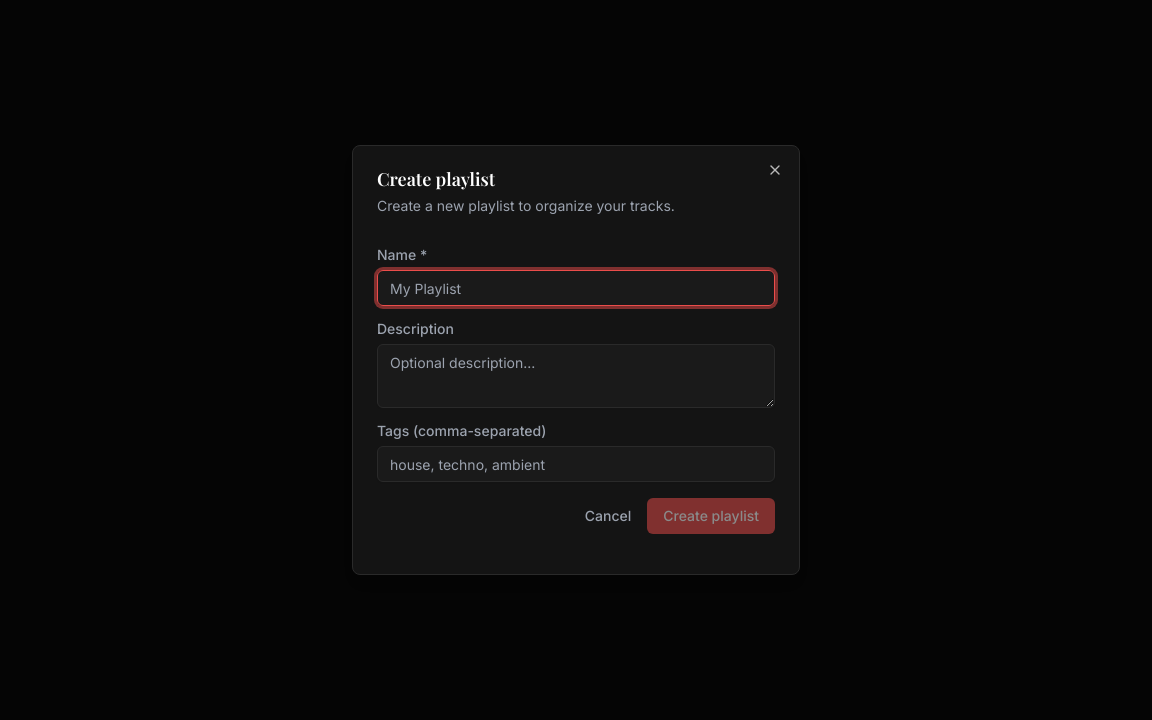
Test: CreatePlaylistDialog › shows error message on API failure
This screenshot has width=1152, height=720.
In the field labelled "Name *": (576, 288) [377, 270, 775, 306], type "Test"
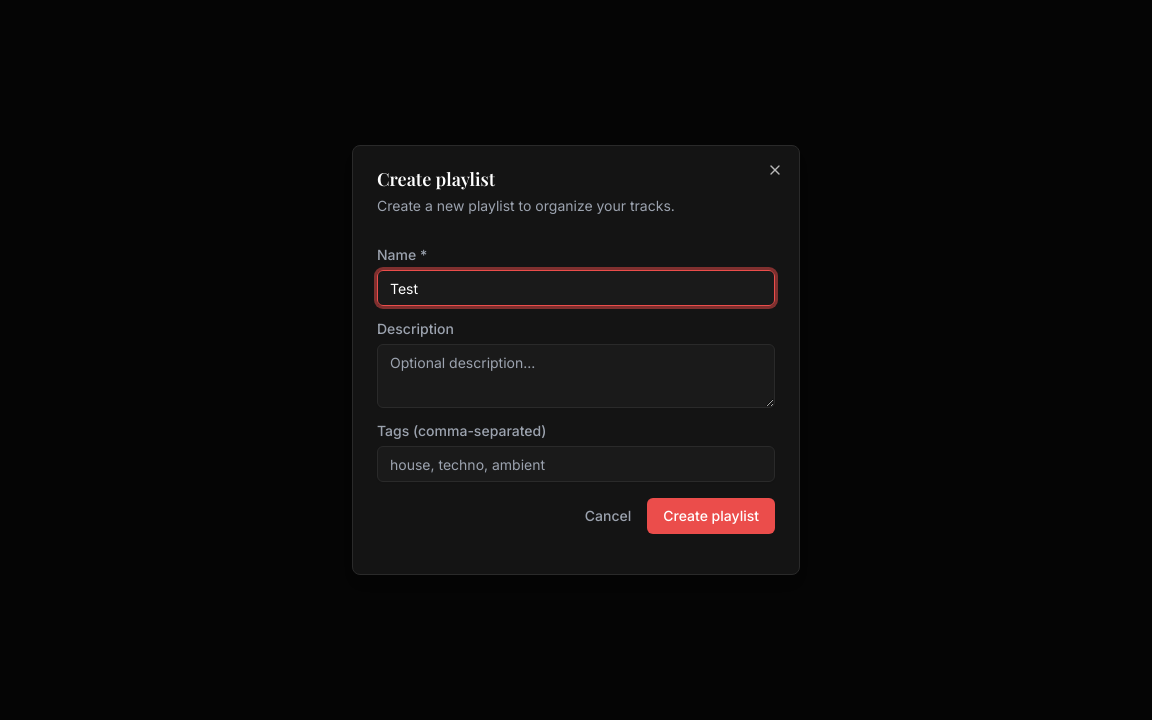
Click the button "Create playlist": (711, 516) [647, 498, 775, 534]
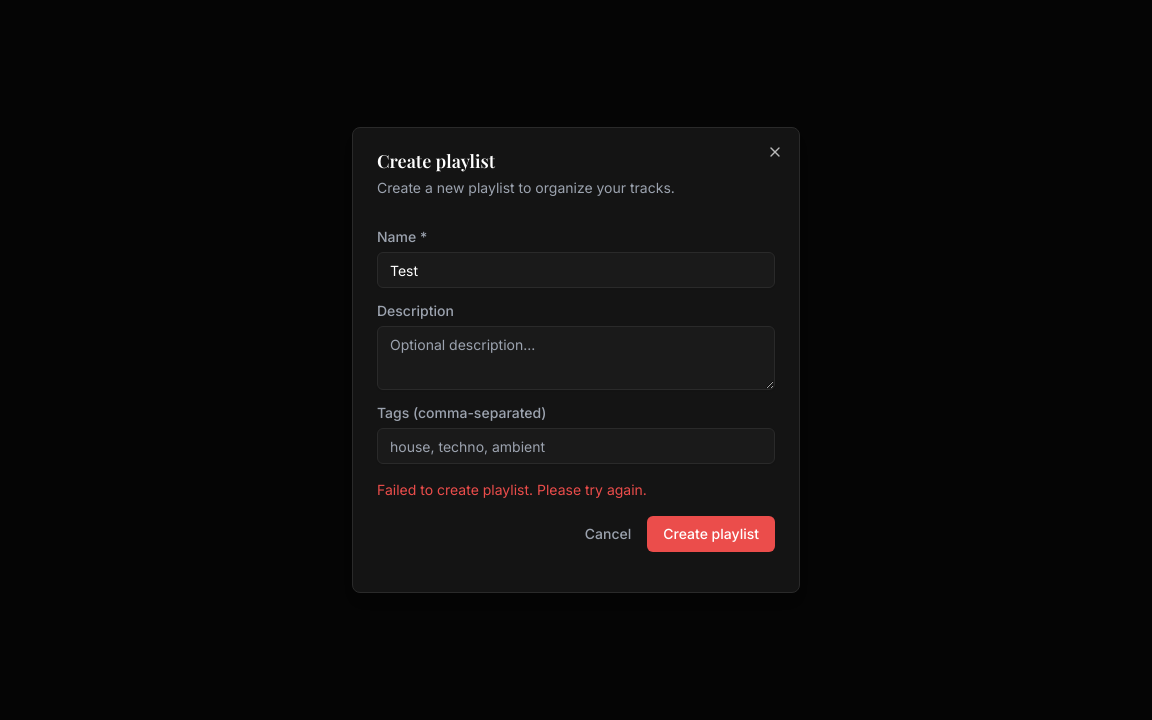
Now the text "Failed to create playlist. Please try again." is shown, box [377, 481, 647, 498]
